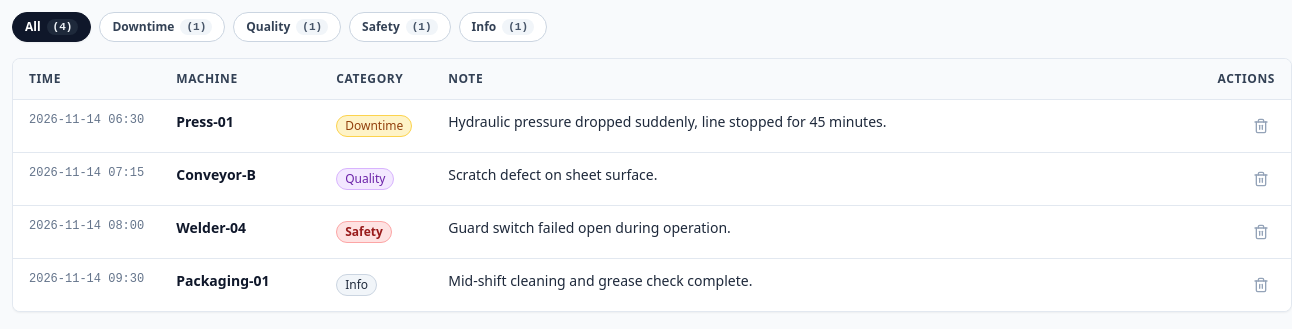
EventList Component › Category Filter Bar & Item Counts › resets filter to "All" when clicking "All" filter button
Expected: the text "Press-01" is shown, [160, 100, 320, 152]
# Filter by Quality
Click the button "Quality (1)": (287, 27) [233, 12, 341, 42]
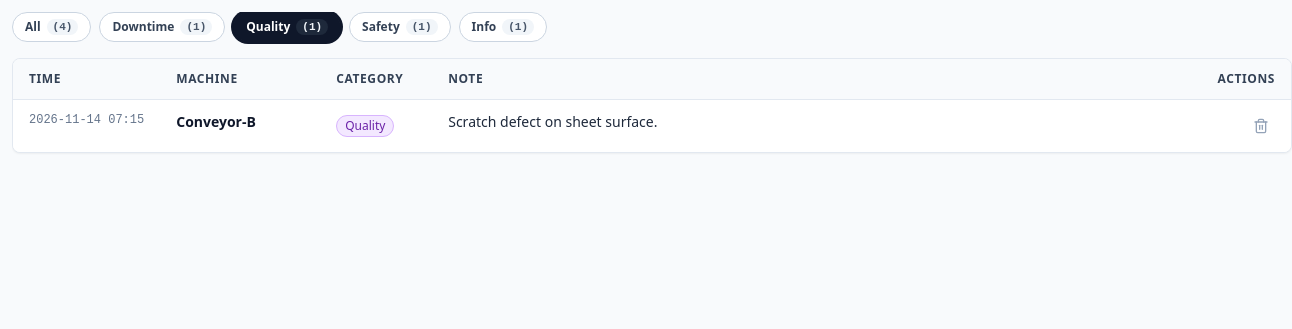
Expected: the text "Conveyor-B" is shown, [160, 100, 320, 152]
Result: the text "Press-01" is gone
# Reset by clicking All
Click the button "All (4)": (52, 27) [12, 12, 91, 42]
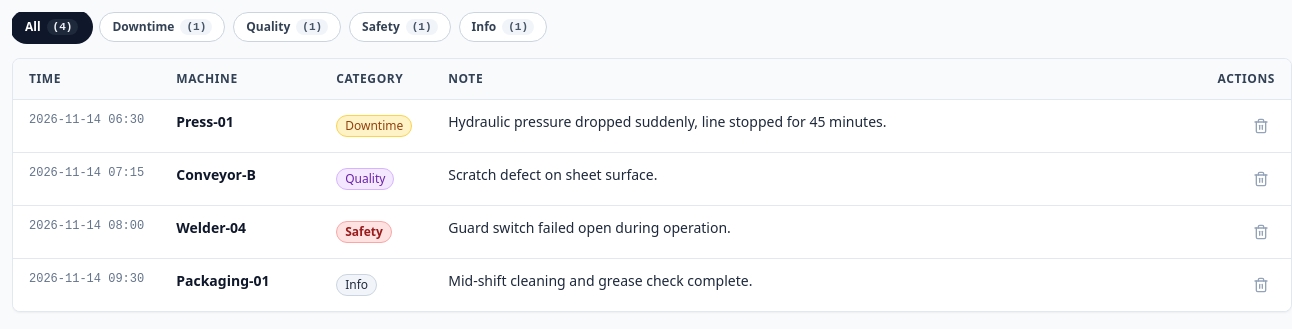
Result: the text "Press-01" is shown at [160, 100, 320, 152]
Result: the text "Welder-04" is shown at [160, 206, 320, 258]
Result: the text "Packaging-01" is shown at [160, 258, 320, 311]
